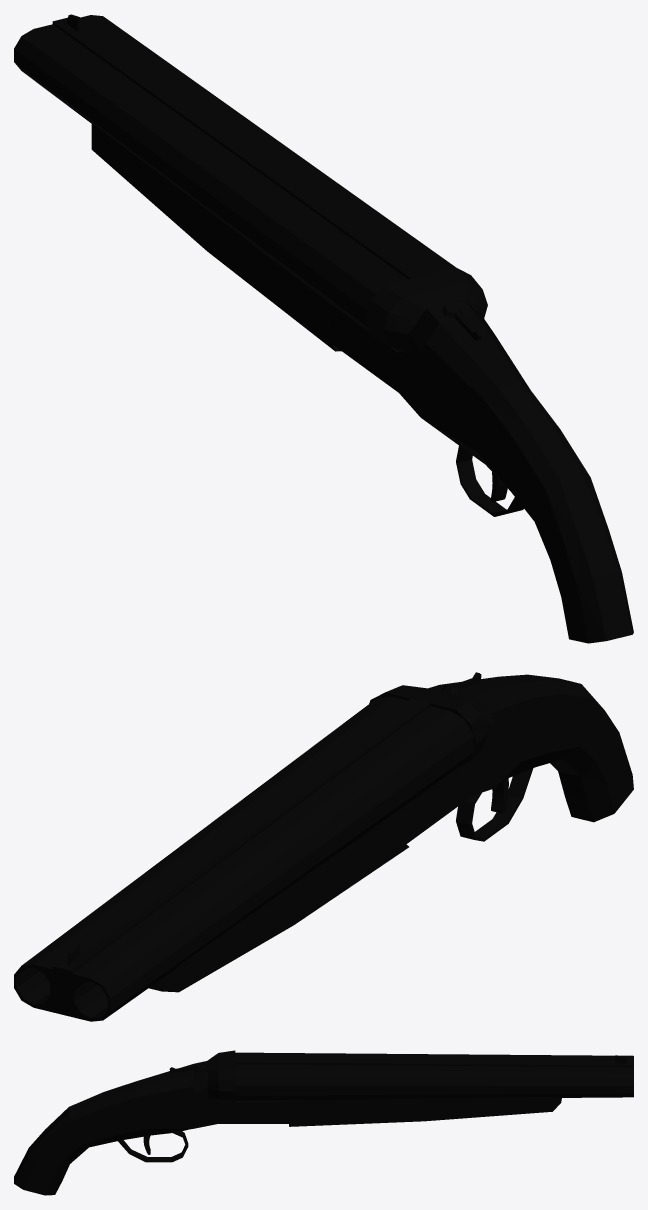
The model's file is sawed_off_db.glb.
3 views of the same model, one above another, from view 1: azimuth 30°, elevation 25°; view 2: azimuth 150°, elevation 25°; view 3: azimuth 270°, elevation 25° (orthographic). The views are drawn at different scales.
Visible parts, largest first — view 1: Barrel_Short_SBS_mat_0, Body_SBS_mat_0, Grip_SBS_mat_0; view 2: Barrel_Short_SBS_mat_0, Body_SBS_mat_0, Grip_SBS_mat_0; view 3: Barrel_Short_SBS_mat_0, Body_SBS_mat_0, Grip_SBS_mat_0.
Boxes of the visible parts, x1,y1,x2,y2 form: Barrel_Short_SBS_mat_0: (14, 14, 455, 331); Body_SBS_mat_0: (328, 267, 633, 643); Grip_SBS_mat_0: (91, 123, 341, 351); Barrel_Short_SBS_mat_0: (14, 697, 473, 1021); Body_SBS_mat_0: (369, 674, 633, 843); Grip_SBS_mat_0: (149, 803, 408, 992); Barrel_Short_SBS_mat_0: (235, 1052, 633, 1100); Body_SBS_mat_0: (14, 1050, 296, 1195); Grip_SBS_mat_0: (274, 1097, 561, 1126).
Bounding box in the file's own units: 5.07 × 10.63 × 43.72.
1 material, 1 textured.
